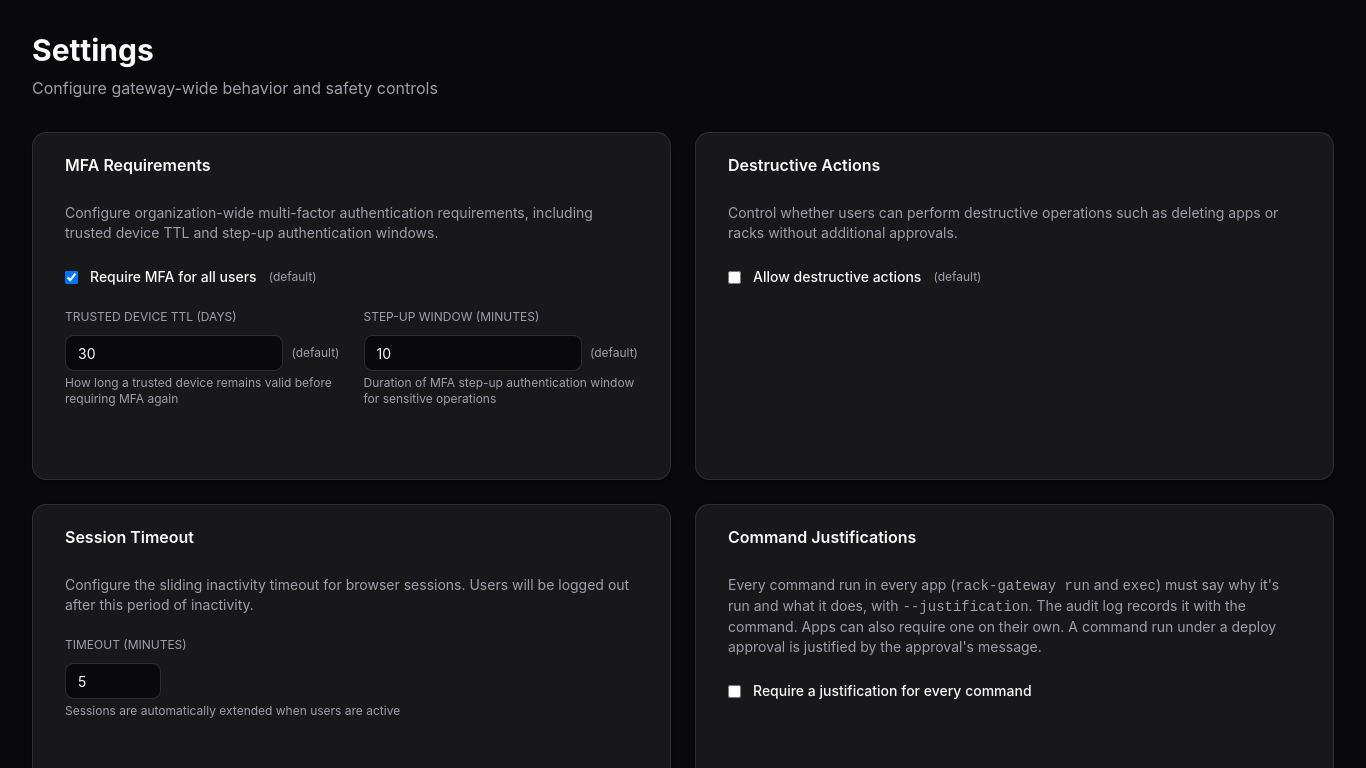
Test: SettingsPage › Updating settings › shows Save and Cancel buttons when value changes
expect the button "save" is not shown: met
expect the button "cancel" is not shown: met
Check the checkbox - use fireEvent to bypass disabled state in tests
Click the checkbox labelled "Allow destructive actions (default)" at (734, 277), box x1=728 y1=270 x2=741 y2=284
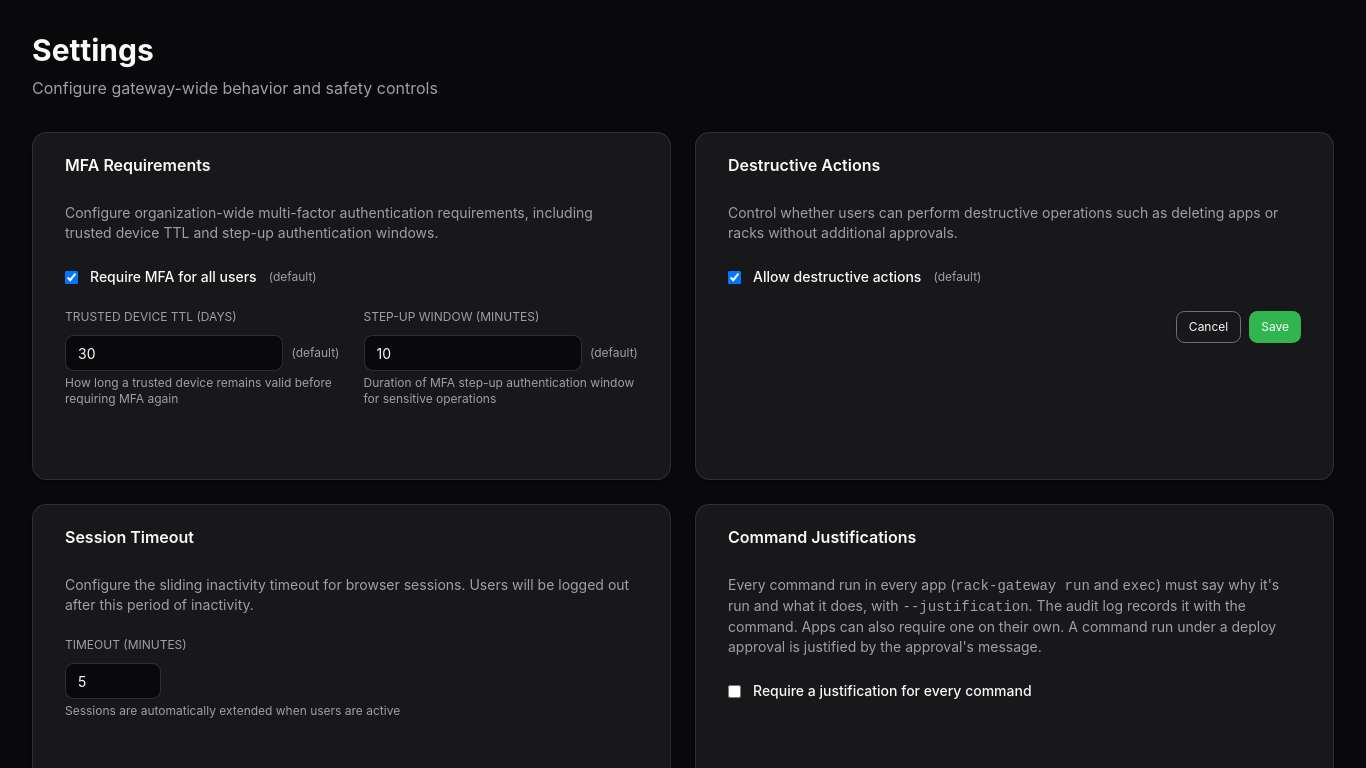
expect the button "Save" is shown: met, box x1=1249 y1=311 x2=1301 y2=343
expect the button "Cancel" is shown: met, box x1=1176 y1=311 x2=1241 y2=343
